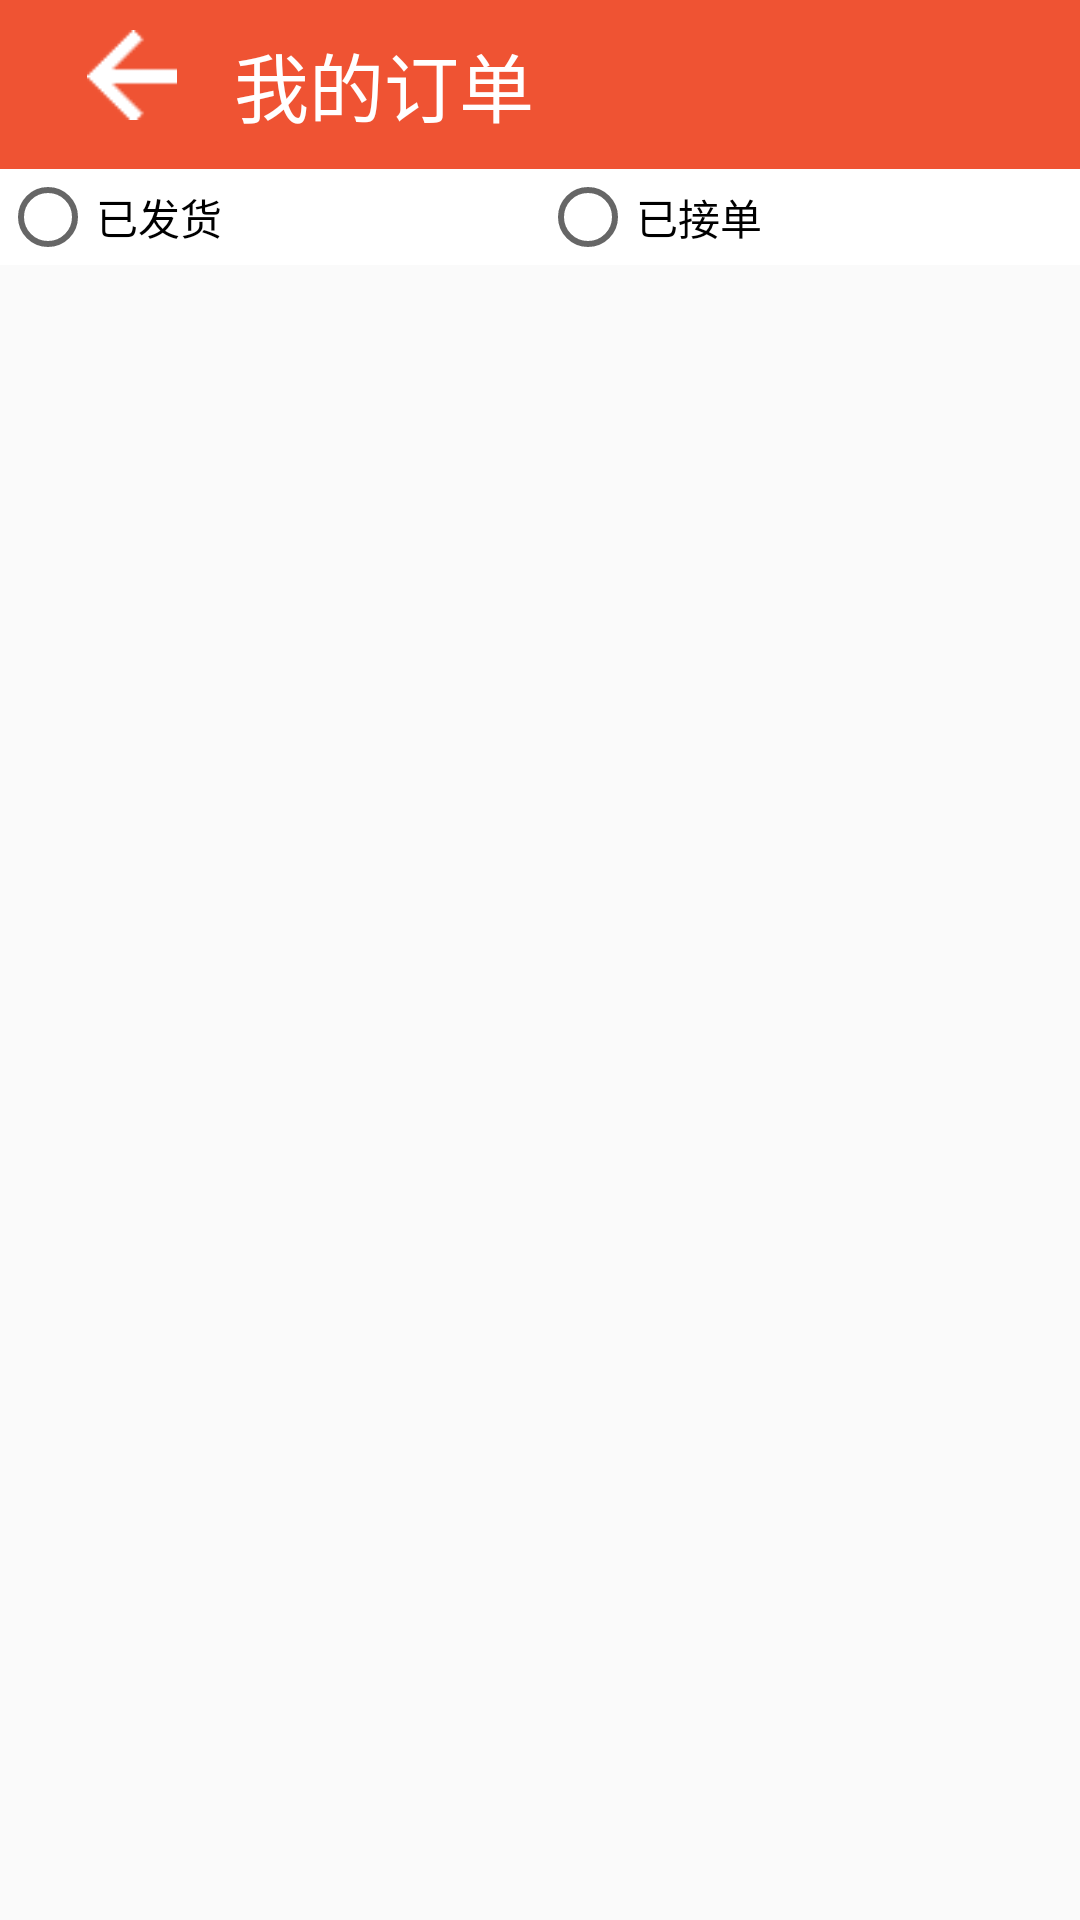

Screen size 1080w x 1920h. Icon name, then its center in pixels as [x,y]:
return last: [132,75]
